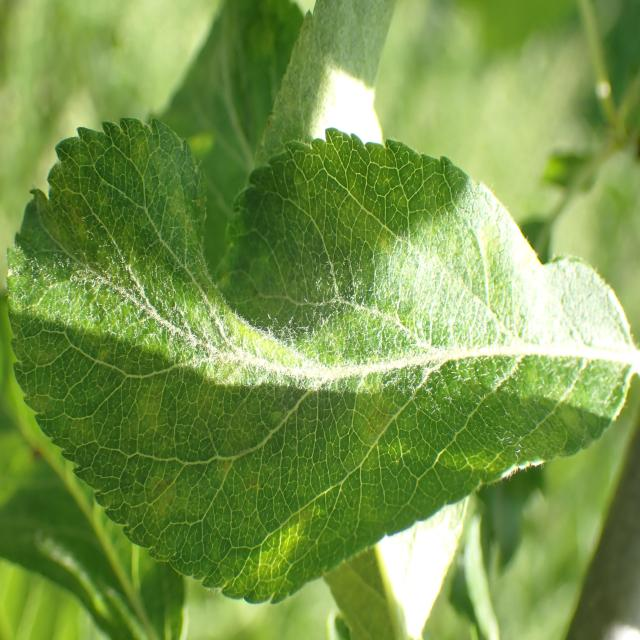scab: (29, 211, 531, 509)
